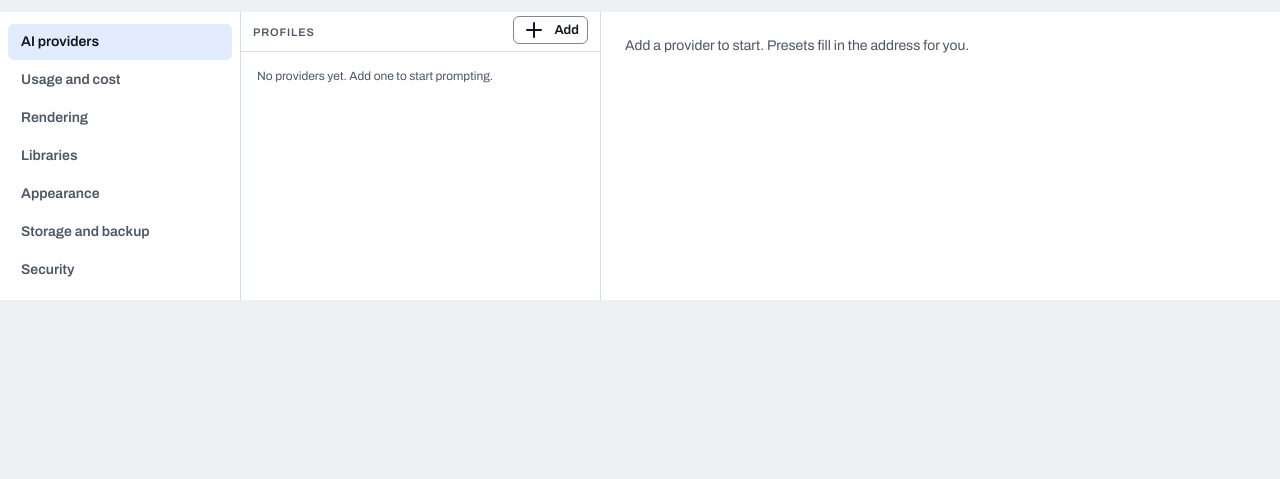
Scenario: shows AI providers as the current section and switches to the other sections
Click the button "Rendering". click: {"x": 120, "y": 118}
box: [8,100,232,136]
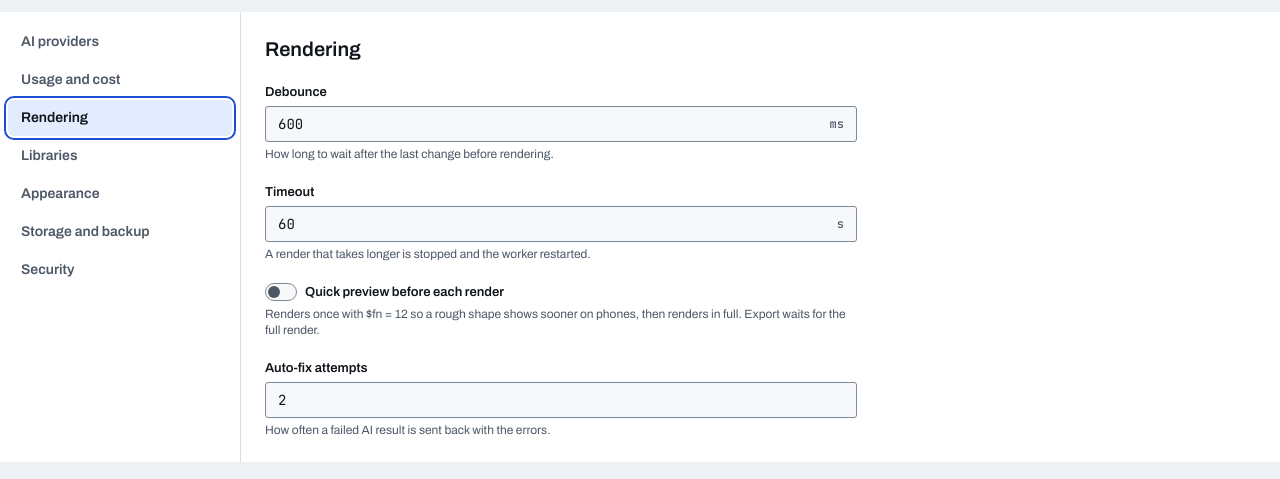
Result: the heading "Rendering" is shown at [265,38,361,60]
Result: the text "Profiles" is gone
Click the button "AI providers". click: {"x": 120, "y": 42}
box: [8,24,232,60]
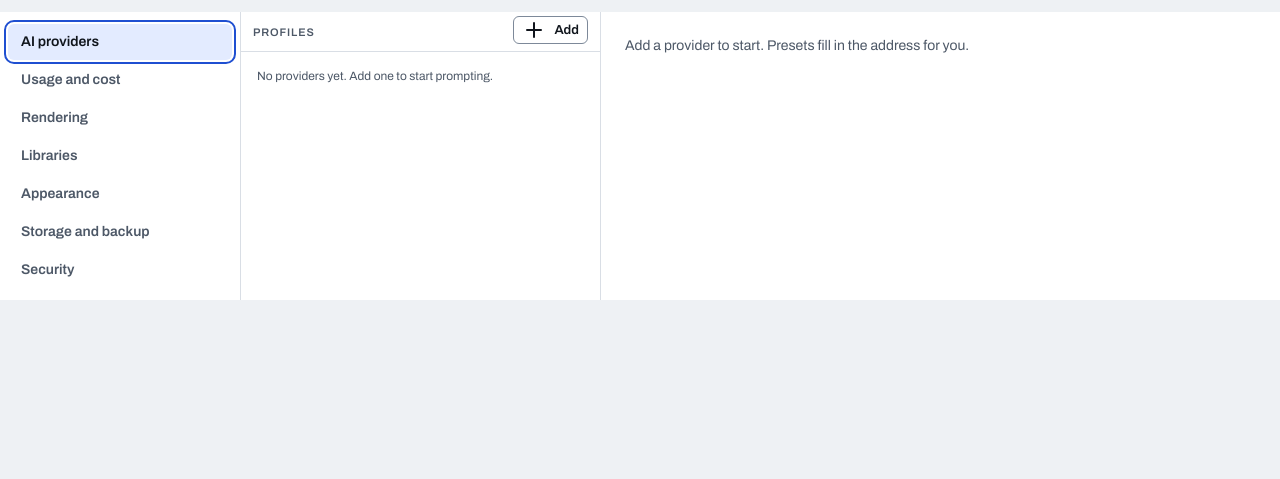
Result: the element "Profiles" is shown at [240,12,600,300]
